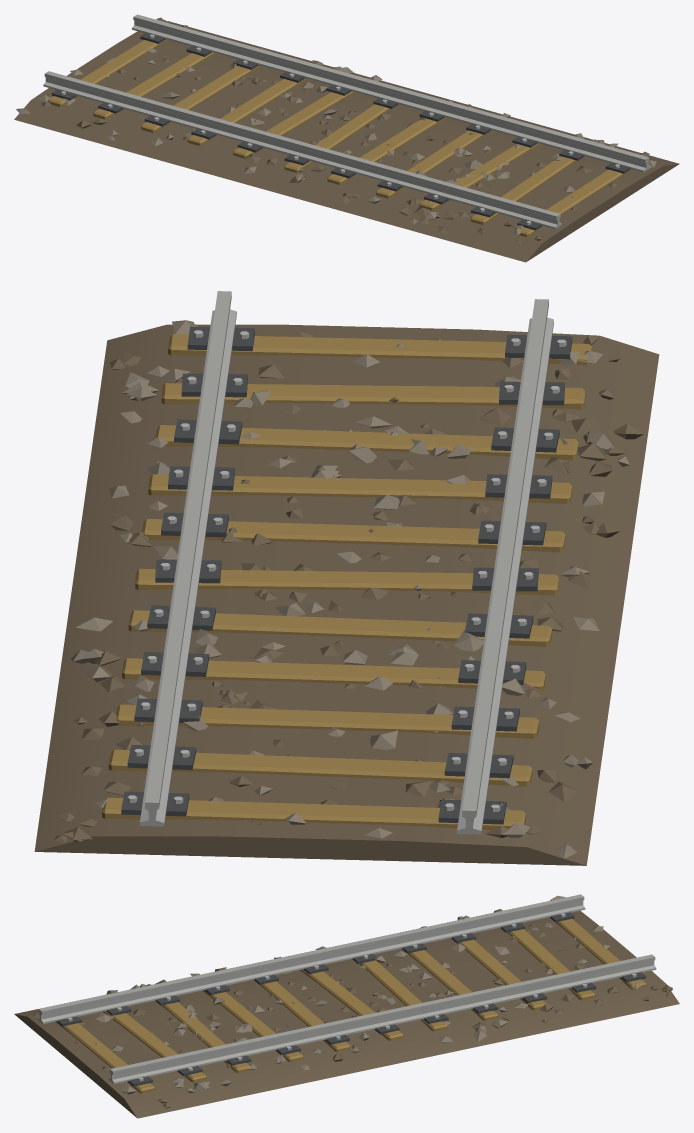
The model's file is half-diagonal-rail.glb.
The picture shows the model from 3 angles, top to bottom: view 1: azimuth 30°, elevation 25°; view 2: azimuth 150°, elevation 25°; view 3: azimuth 270°, elevation 25°; orthographic projection. The views are drawn at different scales.
Parts seen in each view (by area): view 1: body; view 2: body; view 3: body.
Part boxes in pixels (bbox=[...]): body: bbox=[14, 14, 679, 262]; body: bbox=[34, 291, 659, 865]; body: bbox=[14, 894, 679, 1118].
Bounding box in the file's own units: 3.82 × 0.2152 × 4.91.
